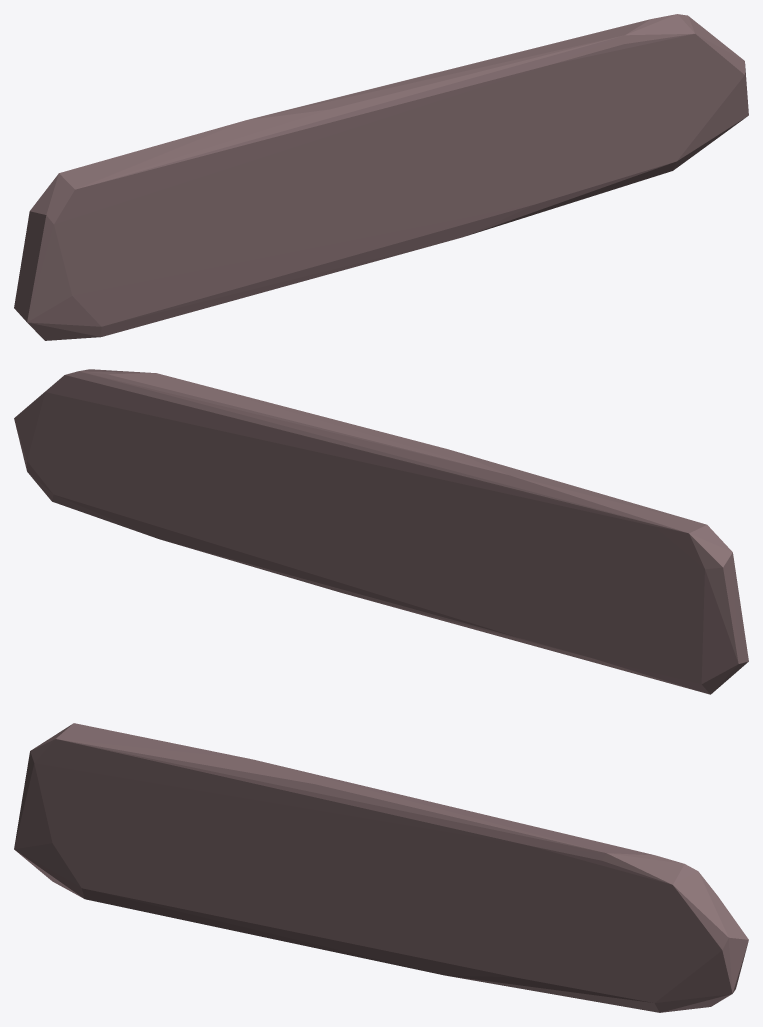
Rendered from engineComponent_timing_chain_a01.glb.
3 renders of one model, top to bottom at view 1: azimuth 30°, elevation 25°; view 2: azimuth 150°, elevation 25°; view 3: azimuth 330°, elevation 25°, orthographic.
Parts seen in each view (by area): view 1: geometry_0; view 2: geometry_0; view 3: geometry_0.
Part boxes in pixels (x1,y1,x2,y2): geometry_0: [14, 14, 748, 340]; geometry_0: [14, 369, 748, 694]; geometry_0: [14, 723, 748, 1012].
Size of the model in its own units: 0.4796 by 0.1108 by 0.0199.
